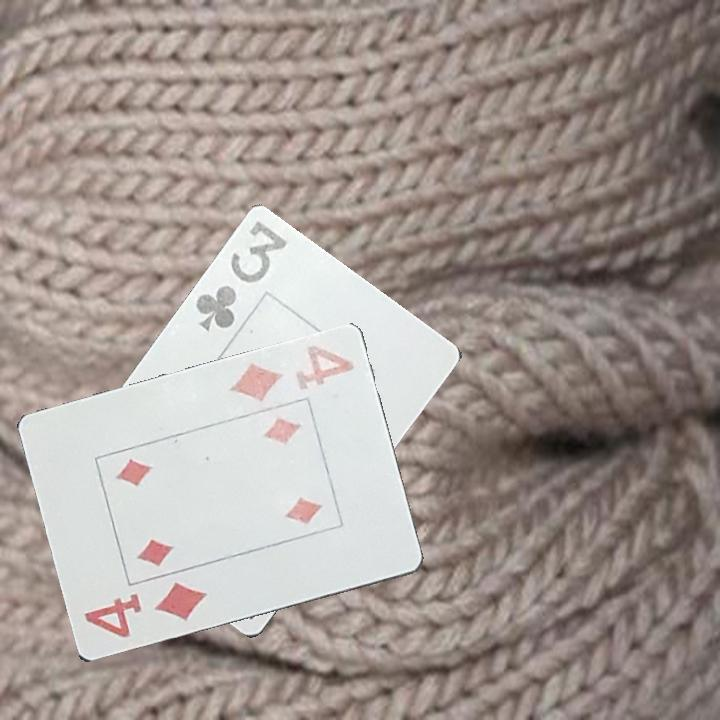3c: (191, 217, 290, 335)
4d: (80, 578, 210, 642), (226, 342, 357, 405)
